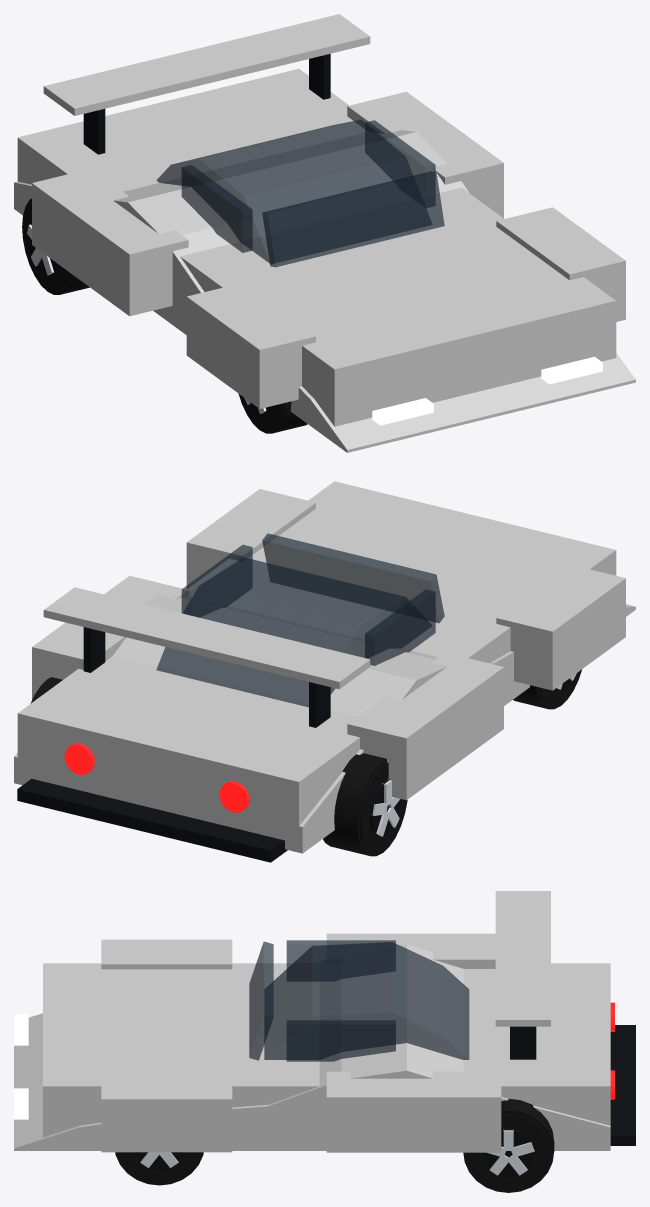
File: king-egg-leviathan.glb
3 renders of one model, top to bottom at view 1: azimuth 30°, elevation 25°; view 2: azimuth 150°, elevation 25°; view 3: azimuth 270°, elevation 25°, orthographic. The views are drawn at different scales.
Parts seen in each view (by area): view 1: chassis, glass, wheel-back-left, wheel-front-left; view 2: chassis, glass, wheel-back-left, wheel-front-left; view 3: chassis, wheel-back-right, glass, wheel-front-right.
Boxes of the visible parts, <box> form: chassis: <box>14,14,635,452</box>; glass: <box>262,171,444,267</box>; wheel-back-left: <box>22,198,89,294</box>; wheel-front-left: <box>238,393,307,433</box>; chassis: <box>14,481,635,862</box>; glass: <box>262,533,444,622</box>; wheel-back-left: <box>323,753,407,856</box>; wheel-front-left: <box>513,669,581,709</box>; chassis: <box>14,891,635,1152</box>; wheel-back-right: <box>463,1098,554,1192</box>; glass: <box>249,941,273,1060</box>; wheel-front-right: <box>115,1152,203,1185</box>.
Size of the model in its own units: 2.66 by 1.24 by 4.28.
